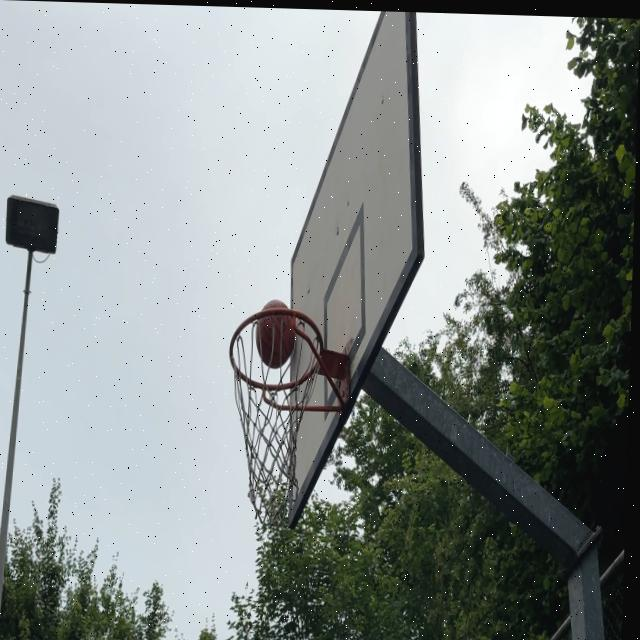Basketball: (256, 304, 297, 368)
